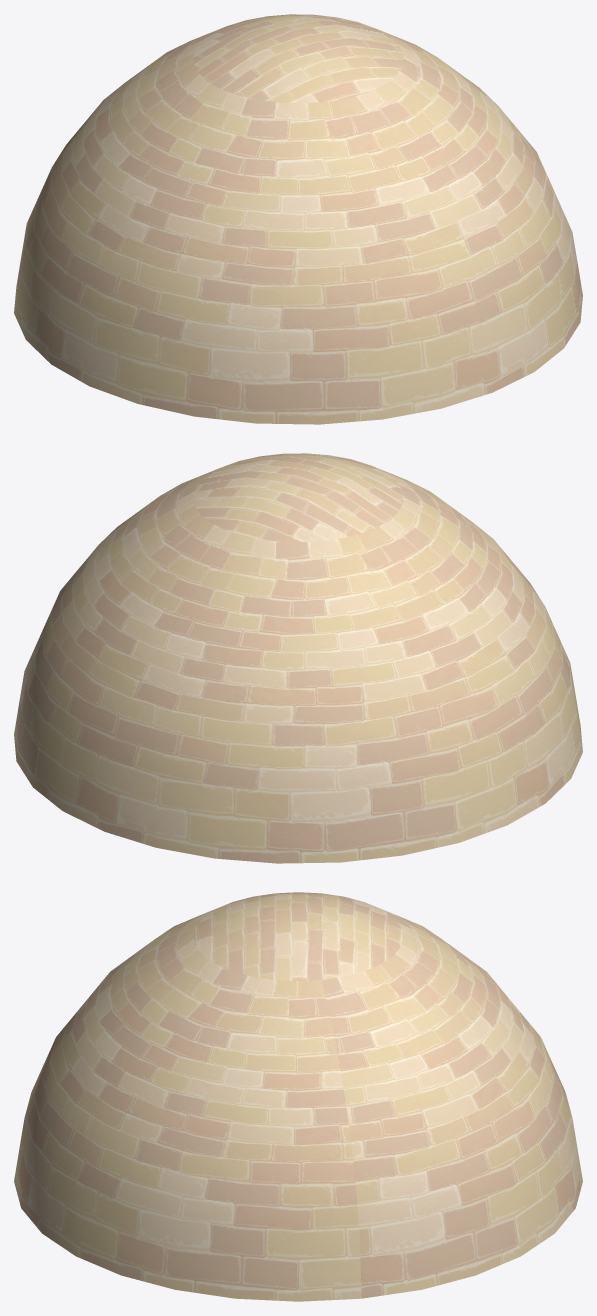
Rendered from SM_dome_04.fbx.
3 renders of one model, top to bottom at view 1: azimuth 30°, elevation 25°; view 2: azimuth 150°, elevation 25°; view 3: azimuth 270°, elevation 25°, orthographic.
Parts seen in each view (by area): view 1: Sphere041; view 2: Sphere041; view 3: Sphere041.
Boxes of the visible parts, box(x1,y1,x2,y2) form: Sphere041: box(14, 14, 582, 424); Sphere041: box(14, 453, 582, 863); Sphere041: box(14, 892, 582, 1301).
Bounding box in the file's own units: 263 × 138 × 263.
